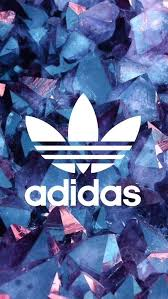adidas: (21, 95, 143, 207)
